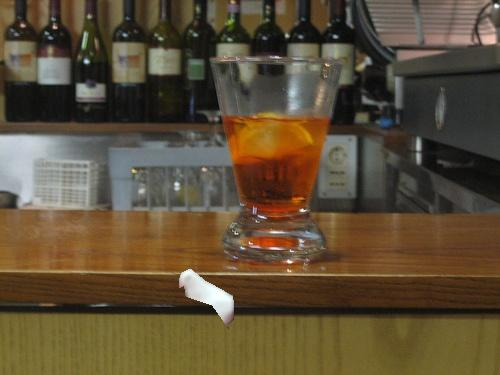tampered: (180, 270, 234, 330)
